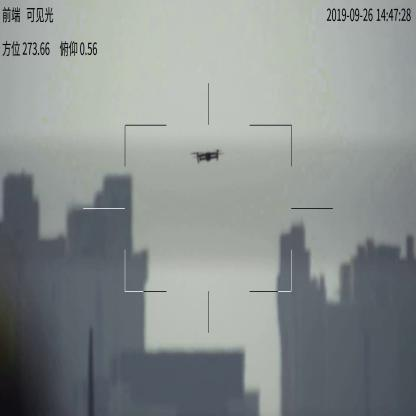uav: (190, 148, 225, 167)
